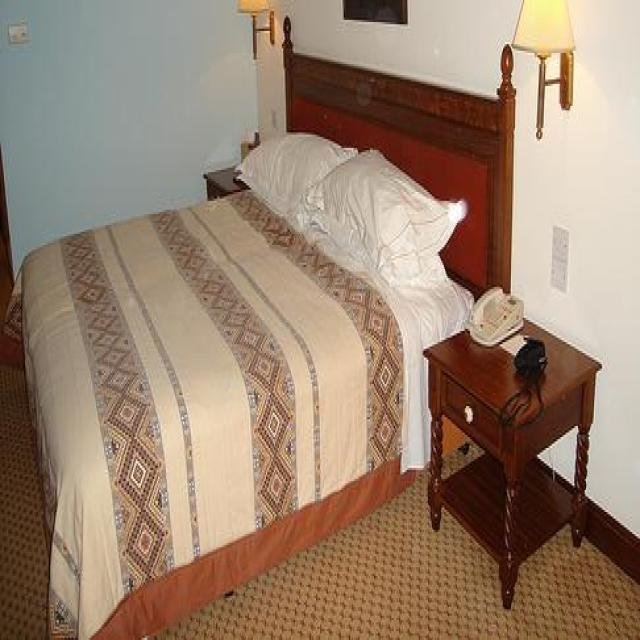bed: (4, 15, 516, 638)
table: (421, 307, 602, 607)
